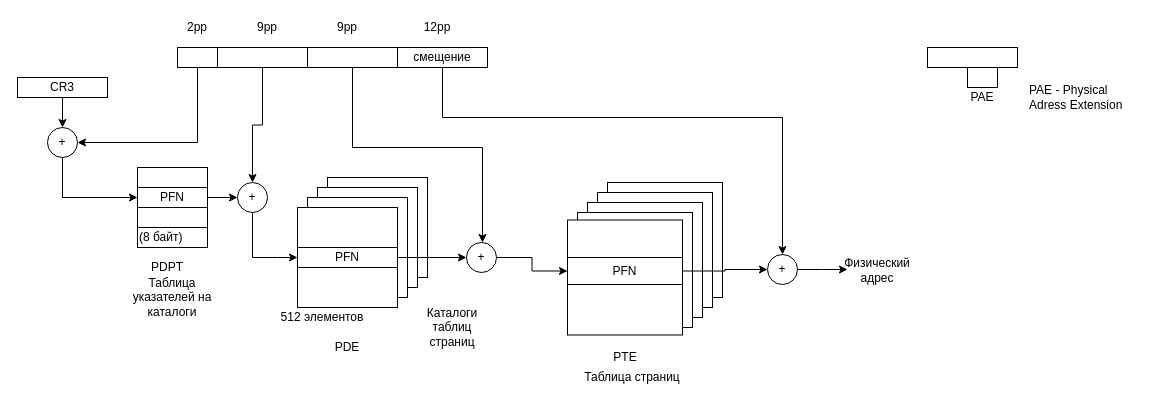
Image size: 1155x404. Some labels were removed from this diagram. The shapes that lost their labels are listed below. From the top down, each one's box as (x1, y1, x2, y2) in pixels, then its label:
(926, 46, 1018, 68): CR4
(966, 66, 998, 88): 5р
